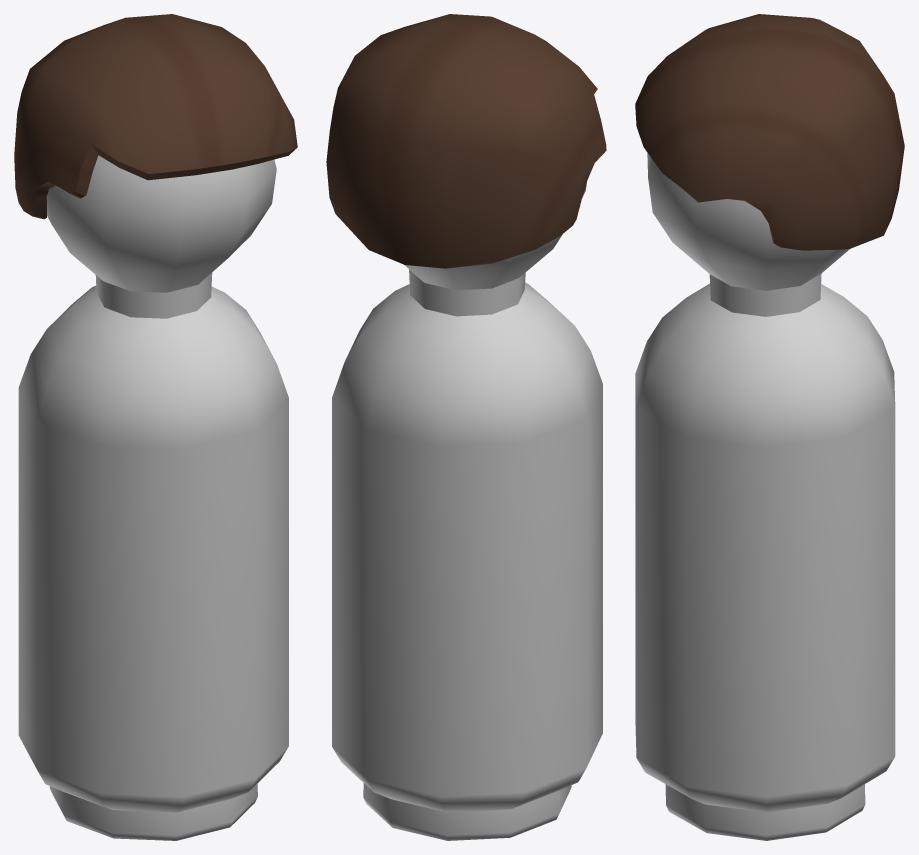
The model's file is Peg_Shirt_Short_BrownHair.fbx.
3 renders of one model, left to right at view 1: azimuth 30°, elevation 25°; view 2: azimuth 150°, elevation 25°; view 3: azimuth 270°, elevation 25°, orthographic.
Visible parts, largest first — view 1: Peg_Shirt_Short_BrownHair; view 2: Peg_Shirt_Short_BrownHair; view 3: Peg_Shirt_Short_BrownHair.
Boxes of the visible parts, x1=… form: Peg_Shirt_Short_BrownHair: x1=14, y1=14, x2=297, y2=840; Peg_Shirt_Short_BrownHair: x1=326, y1=14, x2=606, y2=840; Peg_Shirt_Short_BrownHair: x1=635, y1=14, x2=904, y2=840.
Size of the model in its own units: 1.92 by 5.9 by 1.87.
